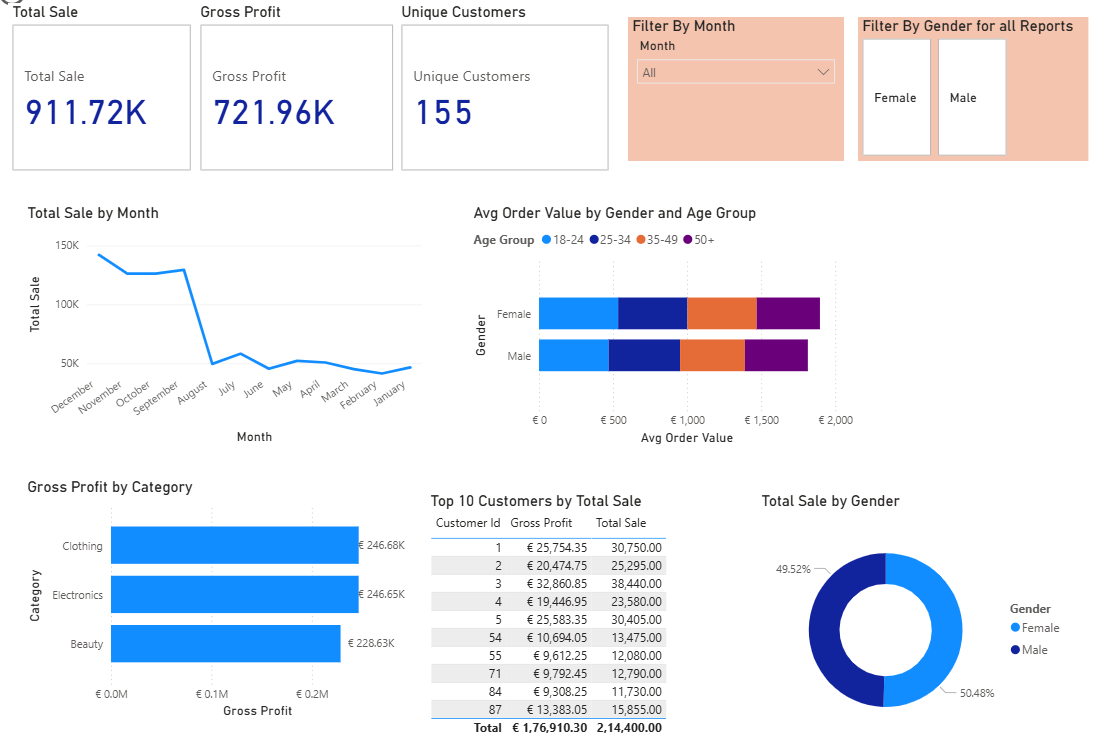

Layout of this report page (visuals, bound fields, positions):
{"tool":"powerbi","page":{"name":"Page 1","canvas":[1600,900],"ordinal":0},"visuals":[{"type":"lineChart","fields":{"Y":["Catergory.Total Sale"],"Category":["Date.Month"]},"box":[32,256,448,272],"z":0},{"type":"actionButton","box":[0,0,100,40],"z":1000},{"type":"barChart","fields":{"Category":["Catergory.Category"],"Y":["Catergory.Gross Profit"]},"box":[48,560,432,272],"z":2000},{"type":"tableEx","fields":{"Values":["Customers.Customer Id","Catergory.Gross Profit","Catergory.Total Sale"]},"box":[480,576,432,288],"z":3000},{"type":"donutChart","fields":{"Category":["Customers.Gender"],"Y":["Catergory.Total Sale"]},"box":[896,592,336,288],"z":4000},{"type":"barChart","fields":{"Category":["Customers.Gender"],"Y":["Catergory.Avg Order Value"],"Series":["Retail Sales Data.Age Group"]},"box":[528,256,432,272],"z":5000},{"type":"cardVisual","title":"Total Revenue","fields":{"Data":["Catergory.Total Sale"]},"box":[16,32,272,192],"z":6000},{"type":"cardVisual","title":"Gross Profit","fields":{"Data":["Catergory.Gross Profit"]},"box":[304,32,272,192],"z":7000},{"type":"cardVisual","title":"Unique Customers","fields":{"Data":["Catergory.Unique Customer"]},"box":[592,32,272,192],"z":8000},{"type":"advancedSlicerVisual","title":"Filter By Gender for all Reports","fields":{"Values":["Customers.Gender"]},"box":[1247.8,64.4,352,160],"z":9000},{"type":"slicer","title":"Filter By Month","fields":{"Values":["Date.Month"]},"box":[879.8,64.4,336,160],"z":10000}]}

Visuals, with their boxes on the page's 1600x900 design canvas (x1, y1, x2, y2). These are canvas units, not pixel positions in the 1097x742 screenshot, which may show the page scaled, cropped or inside an application window:
lineChart - Catergory.Total Sale x Date.Month: box(32, 256, 480, 528)
actionButton: box(0, 0, 100, 40)
barChart - Catergory.Category x Catergory.Gross Profit: box(48, 560, 480, 832)
tableEx - Customers.Customer Id x Catergory.Gross Profit: box(480, 576, 912, 864)
donutChart - Customers.Gender x Catergory.Total Sale: box(896, 592, 1232, 880)
barChart - Customers.Gender x Catergory.Avg Order Value: box(528, 256, 960, 528)
"Total Revenue" cardVisual: box(16, 32, 288, 224)
"Gross Profit" cardVisual: box(304, 32, 576, 224)
"Unique Customers" cardVisual: box(592, 32, 864, 224)
"Filter By Gender for all Reports" advancedSlicerVisual: box(1248, 64, 1600, 224)
"Filter By Month" slicer: box(880, 64, 1216, 224)
